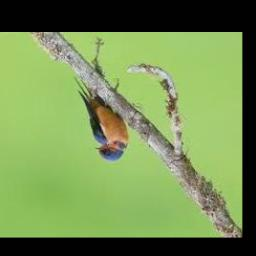Swallow: (74, 75, 129, 161)
